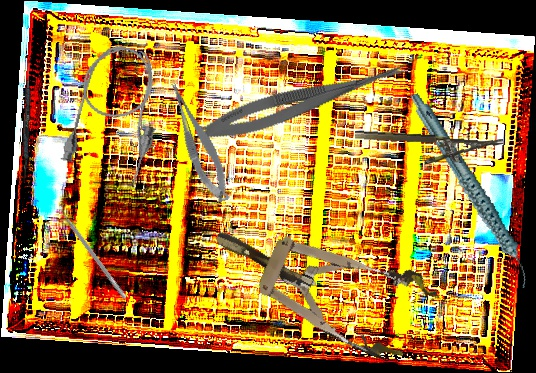Cannula: (58, 38, 174, 188)
Handpiece: (409, 77, 533, 304)
Micro Scissor: (192, 46, 419, 152), (165, 76, 234, 208)
Needle Holder: (353, 128, 503, 170)
Spatula Surgical: (54, 202, 132, 300), (22, 57, 32, 184)
Speculum: (198, 192, 442, 370)
